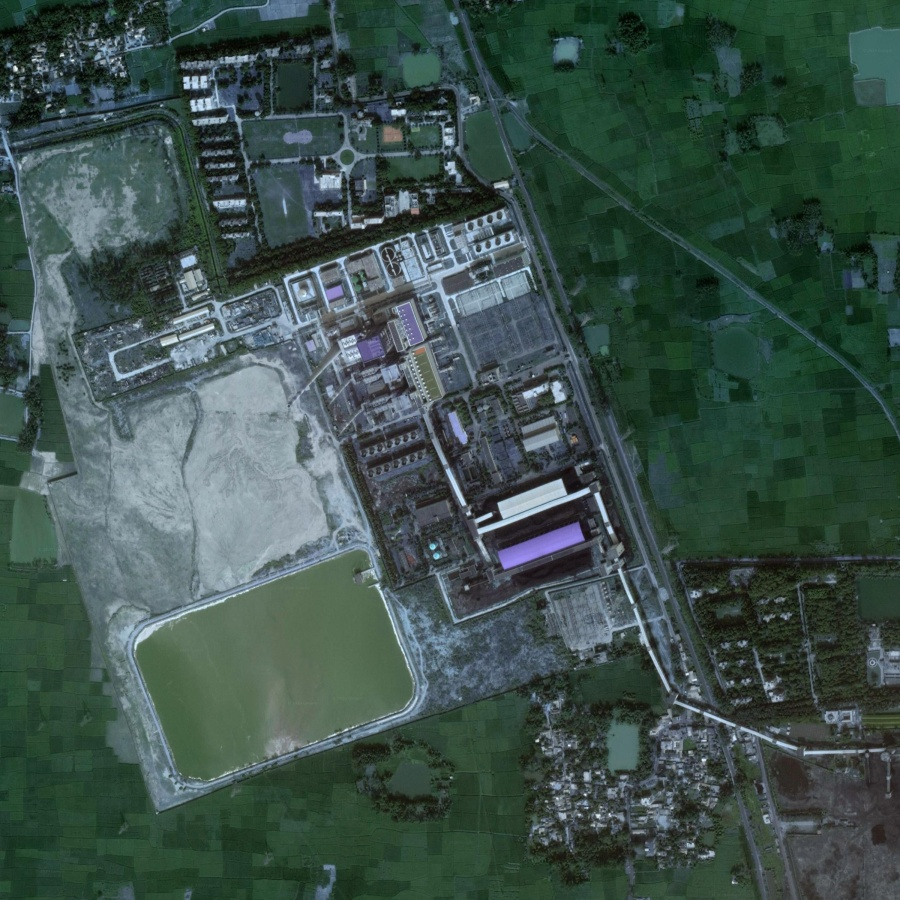PowerPlant: (69, 194, 685, 774)
